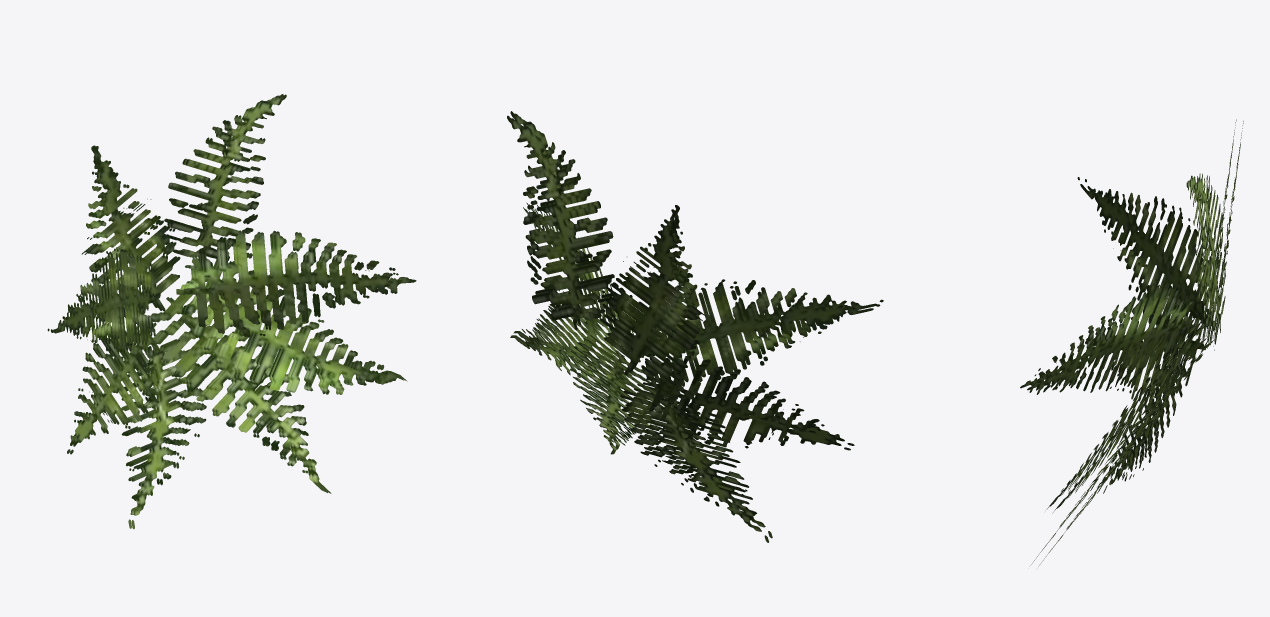
Rendered from fern.glb.
The picture shows the model from 3 angles, left to right: view 1: azimuth 30°, elevation 25°; view 2: azimuth 150°, elevation 25°; view 3: azimuth 270°, elevation 25°; orthographic projection. The views are drawn at different scales.
Visible parts, largest first — view 1: ferns_sm_a; view 2: ferns_sm_a; view 3: ferns_sm_a.
Part boxes in pixels (x1=…): ferns_sm_a: x1=47, y1=94, x2=416, y2=529; ferns_sm_a: x1=507, y1=111, x2=883, y2=542; ferns_sm_a: x1=1020, y1=119, x2=1243, y2=565.
Size of the model in its own units: 7.16 by 7.98 by 3.36.
Materials: 1 (1 with a texture image).
